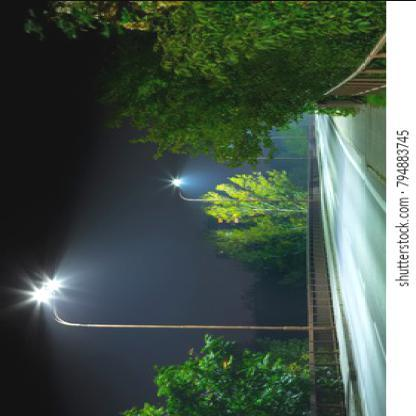on: (0, 86, 380, 416)
